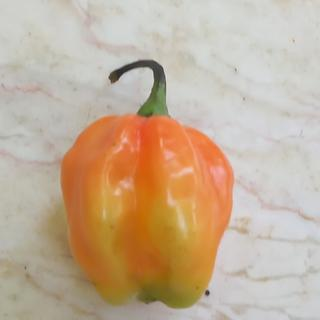Grade-A: (53, 98, 238, 310)
